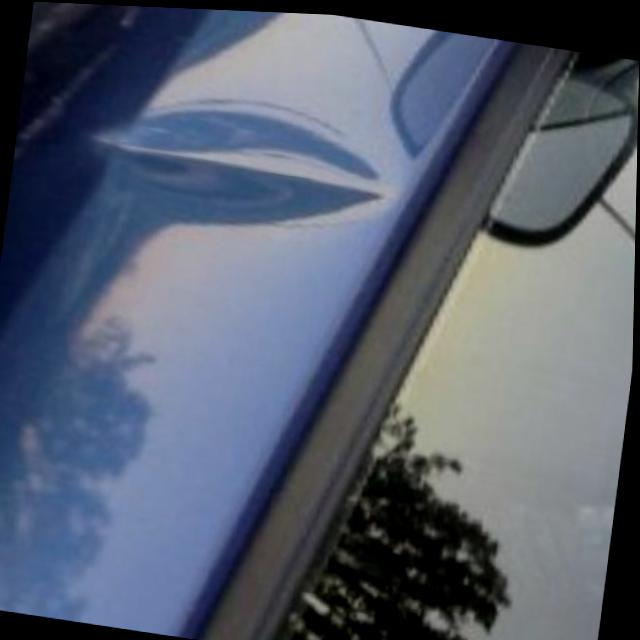Dent: (81, 94, 388, 242)
